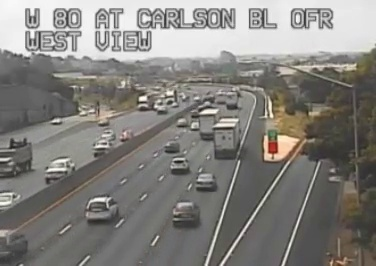car: (85, 197, 117, 221), (172, 202, 199, 226), (196, 173, 215, 189), (170, 157, 189, 172), (164, 142, 179, 153)
truck: (212, 118, 239, 159), (198, 109, 220, 139)
